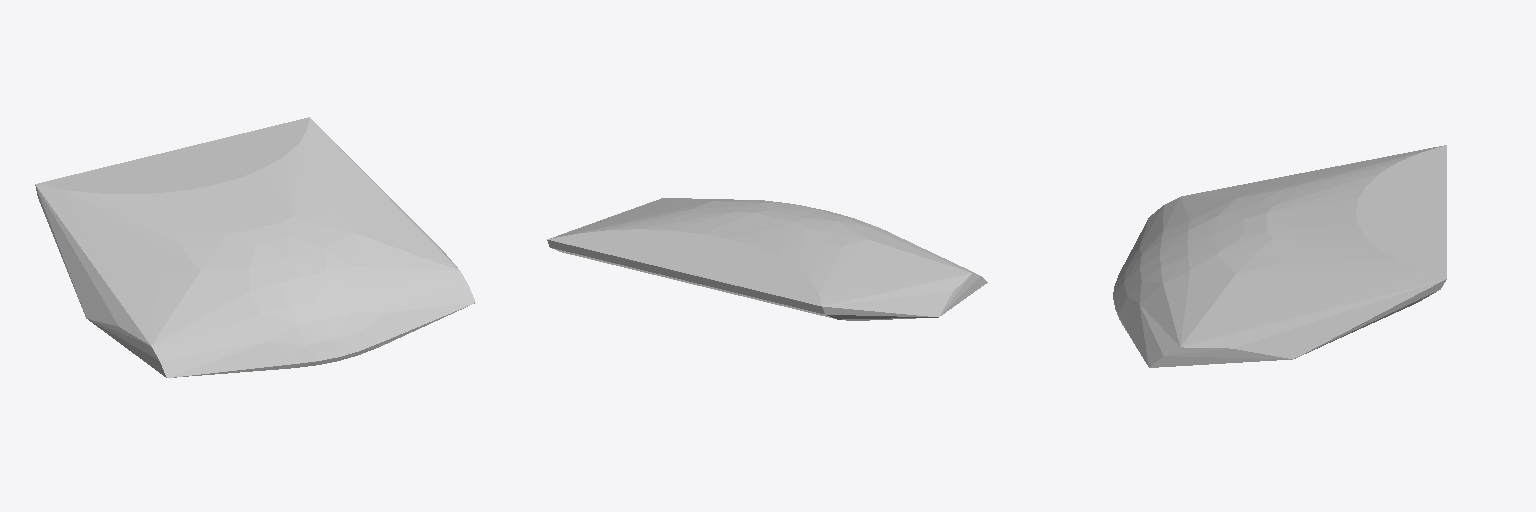
The model's file is M103 Front_plate.obj.
3 views of the same model, side by side, from view 1: azimuth 30°, elevation 25°; view 2: azimuth 150°, elevation 25°; view 3: azimuth 270°, elevation 25° (orthographic).
Parts seen in each view (by area): view 1: Front_plate_american\A66_M103\normal\l\Hull.pri~11~5.001; view 2: Front_plate_american\A66_M103\normal\l\Hull.pri~11~5.001; view 3: Front_plate_american\A66_M103\normal\l\Hull.pri~11~5.001.
Part boxes in pixels (x1,y1,x2,y2): Front_plate_american\A66_M103\normal\l\Hull.pri~11~5.001: (35,117,475,377); Front_plate_american\A66_M103\normal\l\Hull.pri~11~5.001: (547,198,987,320); Front_plate_american\A66_M103\normal\l\Hull.pri~11~5.001: (1113,145,1446,367).
Bounding box in the file's own units: 126 × 31.17 × 107.